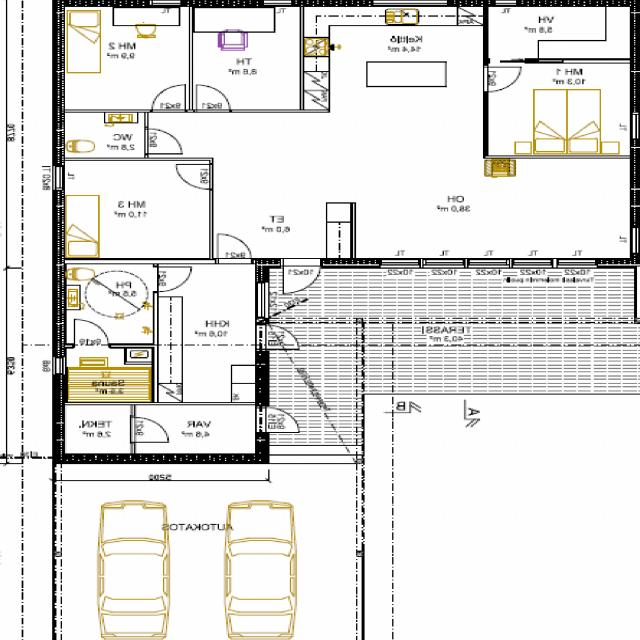door: (283, 258, 321, 296), (255, 408, 302, 432), (255, 325, 302, 349), (490, 33, 525, 63), (217, 234, 251, 264), (74, 319, 108, 348), (176, 164, 213, 190), (483, 67, 521, 92), (154, 267, 192, 292), (144, 129, 182, 154), (132, 417, 169, 442), (197, 85, 230, 112), (152, 85, 185, 112)
